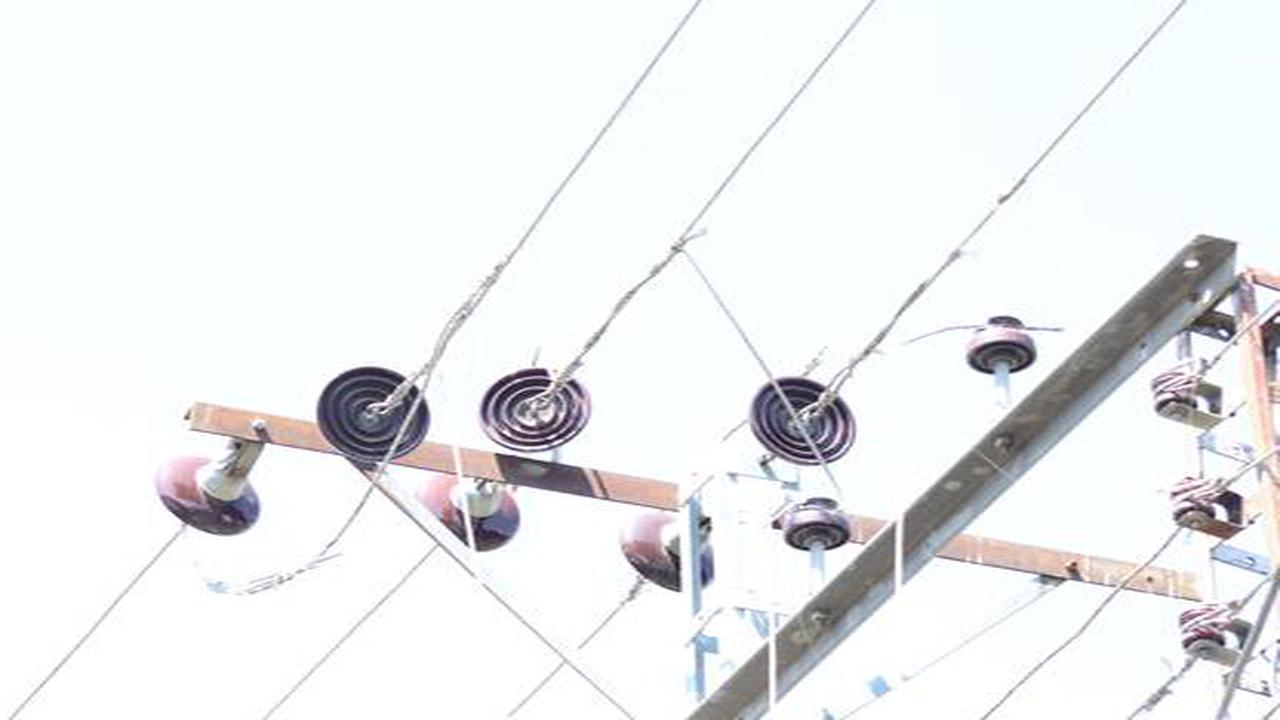insulator_disc: (313, 368, 435, 463), (746, 369, 860, 468), (475, 362, 592, 452), (615, 502, 718, 599), (154, 450, 268, 537), (424, 471, 525, 558)
insulator_pin: (964, 314, 1040, 379), (782, 491, 853, 553)
